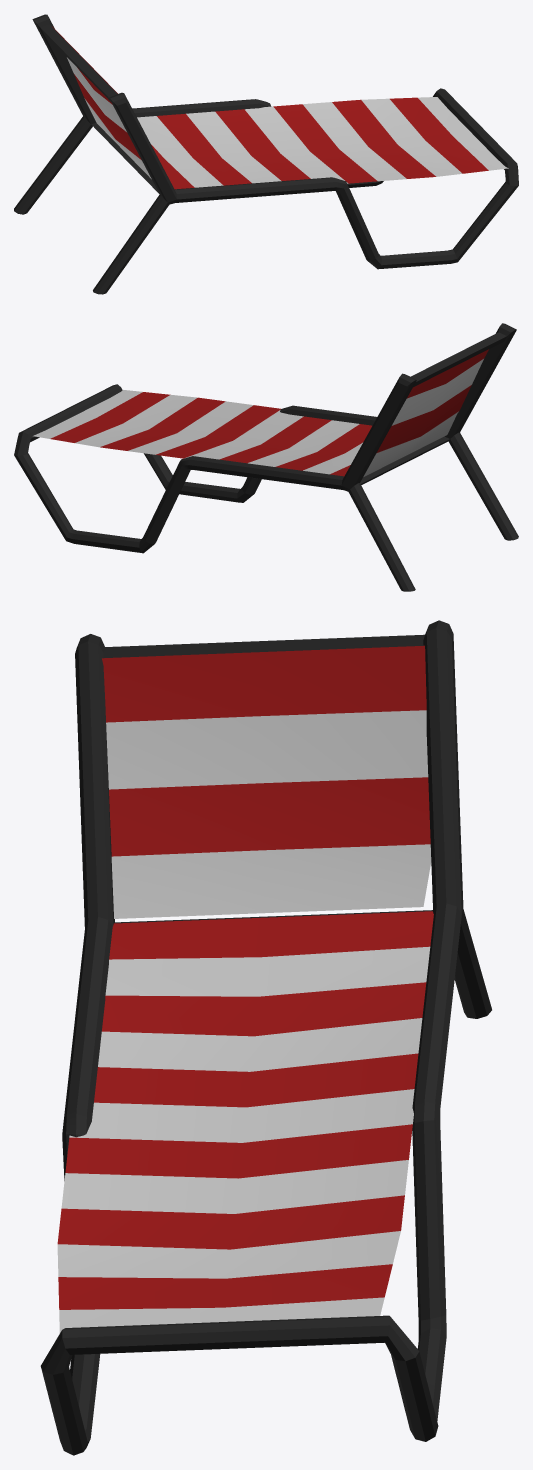
The model's file is Beach Lounge Chair.dae.
3 renders of one model, top to bottom at view 1: azimuth 30°, elevation 25°; view 2: azimuth 150°, elevation 25°; view 3: azimuth 270°, elevation 25°, orthographic. The views are drawn at different scales.
Visible parts, largest first — view 1: Beach_Chair2; view 2: Beach_Chair2; view 3: Beach_Chair2.
Boxes of the visible parts, box(x1,y1,x2,y2) form: Beach_Chair2: box(14, 14, 518, 294); Beach_Chair2: box(14, 323, 518, 591); Beach_Chair2: box(40, 620, 491, 1455).
Bounding box in the file's own units: 2.9 × 1.7 × 1.35.
